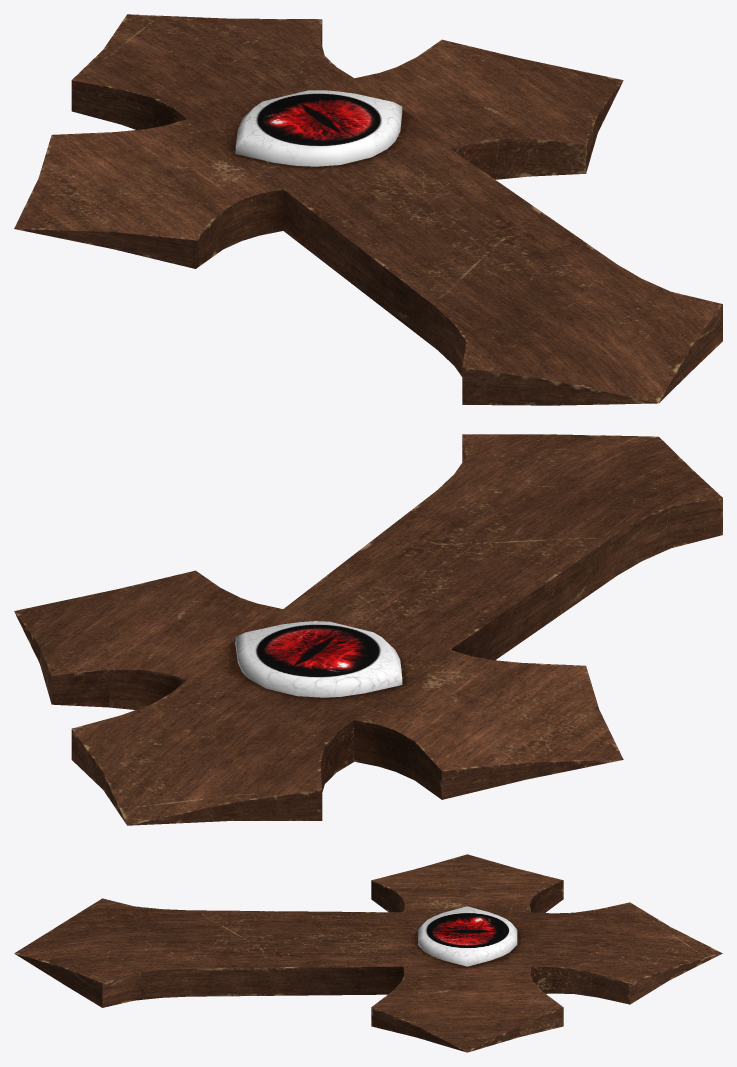
Rendered from Crucifix.fbx.
3 renders of one model, top to bottom at view 1: azimuth 30°, elevation 25°; view 2: azimuth 150°, elevation 25°; view 3: azimuth 270°, elevation 25°, orthographic. The views are drawn at different scales.
Parts seen in each view (by area): view 1: Cruz; view 2: Cruz; view 3: Cruz.
Boxes of the visible parts, x1,y1,x2,y2 form: Cruz: (14, 14, 722, 405); Cruz: (14, 434, 722, 825); Cruz: (14, 854, 722, 1052).
Size of the model in its own units: 4.53 by 0.3932 by 6.85.
